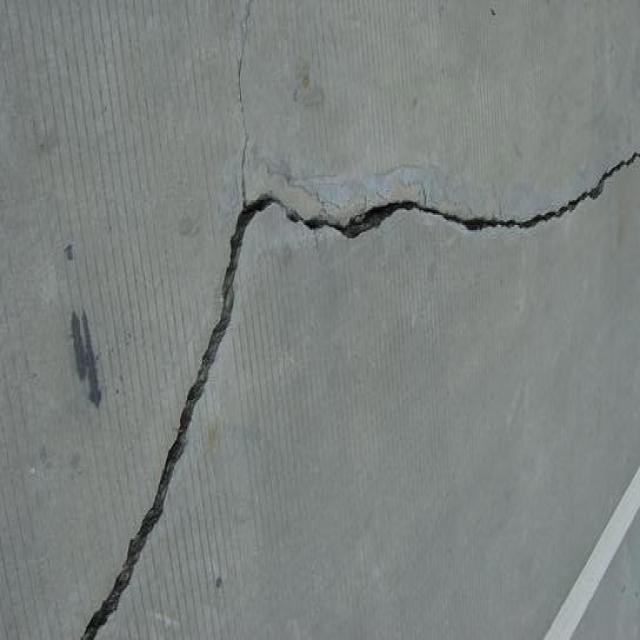crack: (78, 224, 250, 638), (257, 147, 638, 243), (236, 0, 256, 221)
